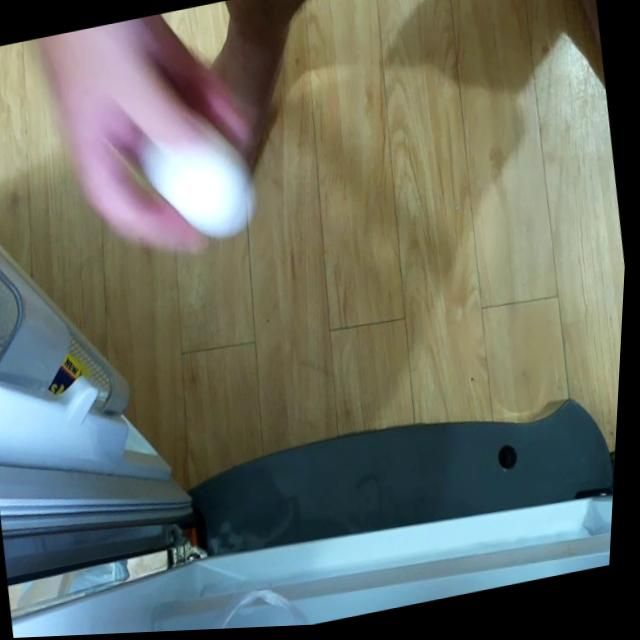egg: (136, 113, 268, 254)
